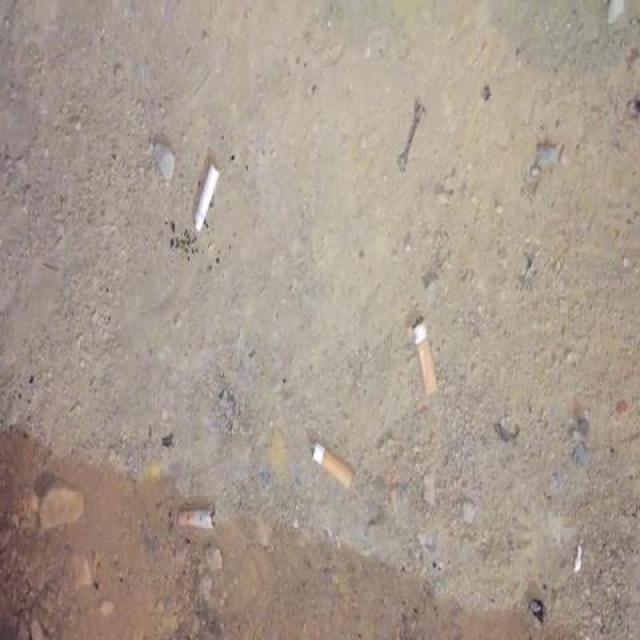non-organic waste: (407, 312, 441, 400), (310, 438, 358, 494), (190, 160, 222, 235), (175, 502, 222, 534)
